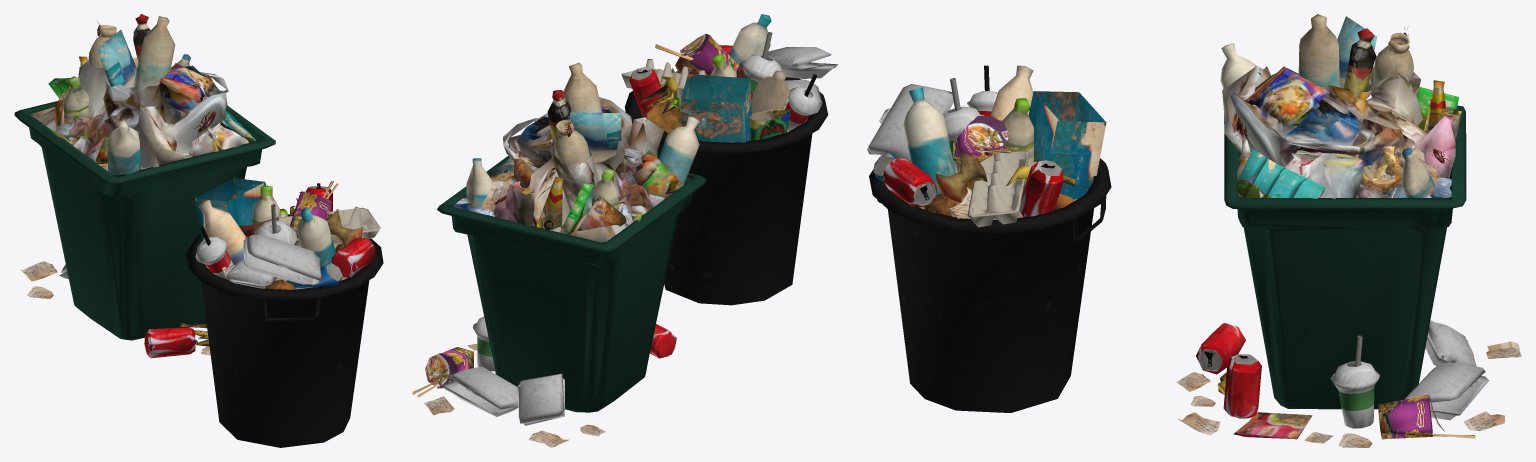
The model's file is Bin .fbx.
3 renders of one model, left to right at view 1: azimuth 30°, elevation 25°; view 2: azimuth 150°, elevation 25°; view 3: azimuth 270°, elevation 25°, orthographic. The views are drawn at different scales.
Parts seen in each view (by area): view 1: Cube.001, Cylinder.001; view 2: Cube.001, Cylinder.001; view 3: Cube.001, Cylinder.001.
Part boxes in pixels (left/top/right/bottom): Cube.001: left=14, top=14, right=275, bottom=358; Cylinder.001: left=185, top=178, right=383, bottom=447; Cube.001: left=412, top=63, right=706, bottom=447; Cylinder.001: left=621, top=14, right=837, bottom=305; Cube.001: left=1175, top=14, right=1521, bottom=447; Cylinder.001: left=867, top=65, right=1111, bottom=412.
Size of the model in its own units: 169 by 234 by 375.
Materials: 2 (2 with a texture image).
